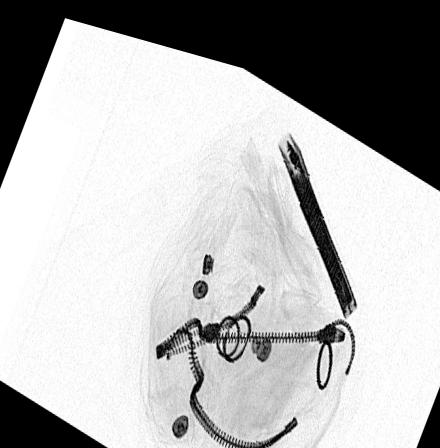Powerbank: (277, 112, 359, 302)
